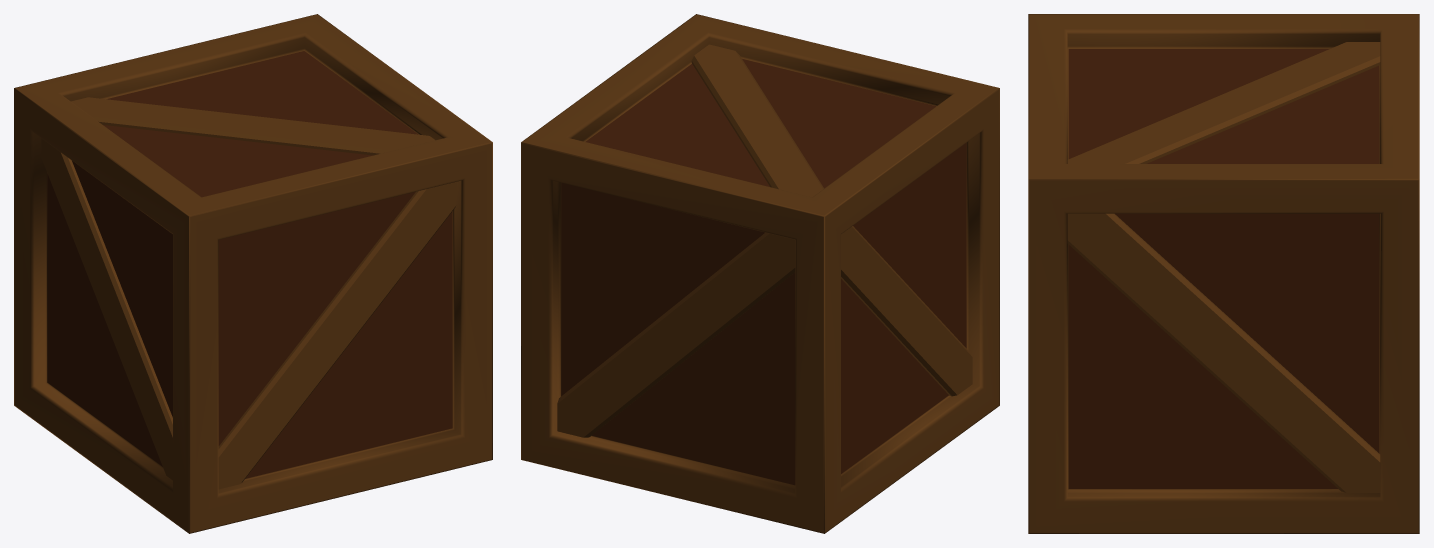
The model's file is crate.fbx.
The picture shows the model from 3 angles, left to right: view 1: azimuth 30°, elevation 25°; view 2: azimuth 150°, elevation 25°; view 3: azimuth 270°, elevation 25°; orthographic projection. The views are drawn at different scales.
Visible parts, largest first — view 1: WoodCrate_Var1; view 2: WoodCrate_Var1; view 3: WoodCrate_Var1.
Part boxes in pixels (bbox=[...]): WoodCrate_Var1: bbox=[14, 14, 492, 533]; WoodCrate_Var1: bbox=[521, 14, 999, 533]; WoodCrate_Var1: bbox=[1028, 14, 1419, 533].
Bounding box in the file's own units: 161 × 161 × 161.
